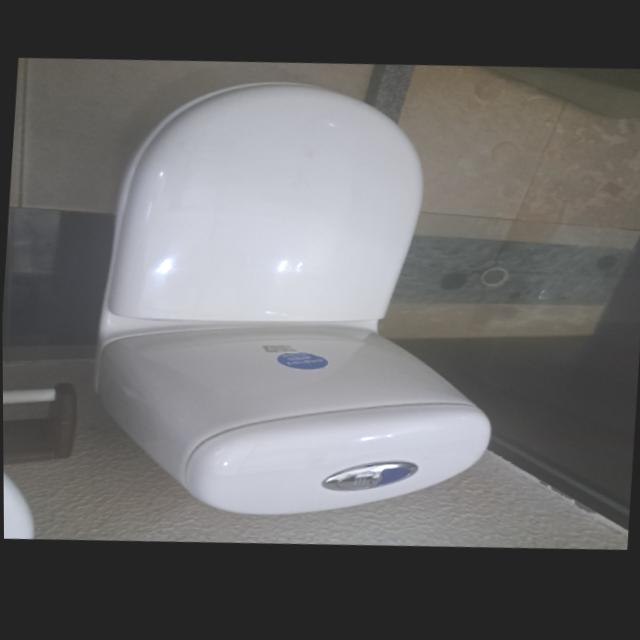toilet: (78, 62, 515, 542)
